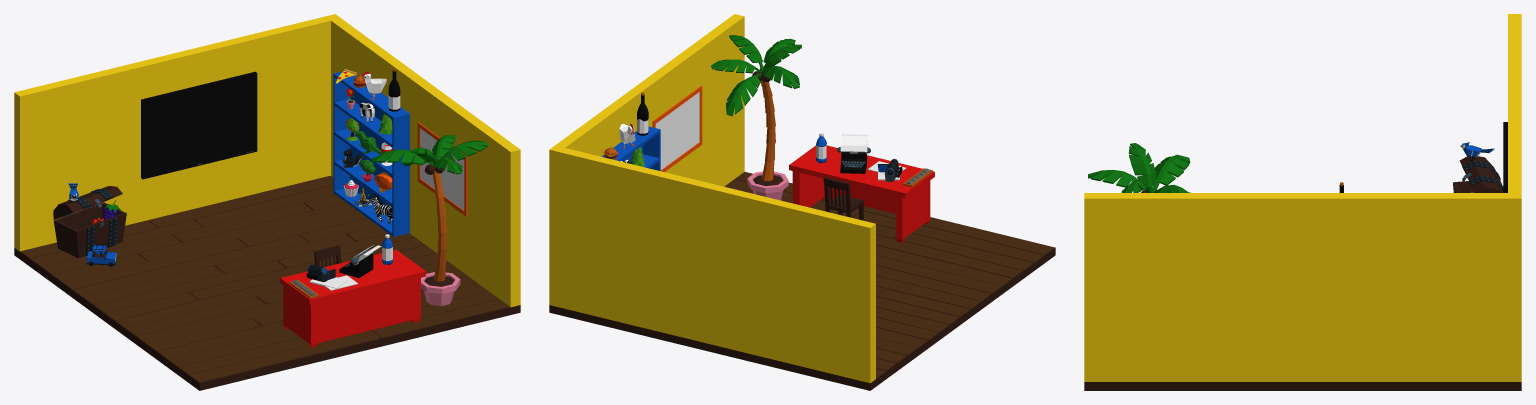
The model's file is Isometric_Room_03.obj.
3 views of the same model, side by side, from view 1: azimuth 30°, elevation 25°; view 2: azimuth 150°, elevation 25°; view 3: azimuth 270°, elevation 25° (orthographic). The views are drawn at different scales.
Visible parts, largest first — view 1: Plane, Cube.024, Cube_Cube.001, Cube.001_Cube.002, Cube.002_Cube.003, palm_tree_01, Cube.004_Cube, Plane.002_Plane.009, Cube.005, flower_01_Cube.000, Cube.003_Cube.006, car_01_Cube.004 (+1 smaller); view 2: Plane, Cube.024, Cube.001_Cube.002, palm_tree_01, Plane.002_Plane.009, Cube.002_Cube.003, Cube.003_Cube.006, Plane.004_Plane.010, flower_01_Cube.000; view 3: Plane, palm_tree_01, Cube.005.
Part boxes in pixels (x1,y1,x2,y2): Plane: (14,14,520,390); Cube.024: (20,176,508,382); Cube_Cube.001: (141,71,257,179); Cube.001_Cube.002: (280,249,425,347); Cube.002_Cube.003: (333,69,409,236); palm_tree_01: (372,135,487,281); Cube.004_Cube: (53,202,126,258); Plane.002_Plane.009: (417,122,467,216); Cube.005: (53,186,122,219); flower_01_Cube.000: (421,272,460,305); Cube.003_Cube.006: (339,245,381,277); car_01_Cube.004: (86,244,116,266); Plane: (549,14,1055,390); Cube.024: (724,172,1054,378); Cube.001_Cube.002: (789,145,934,242); palm_tree_01: (711,35,801,181); Plane.002_Plane.009: (652,85,702,171); Cube.002_Cube.003: (601,126,660,170); Cube.003_Cube.006: (837,134,870,173); Plane.004_Plane.010: (823,177,863,220); flower_01_Cube.000: (747,171,788,200); Plane: (1084,14,1521,390); palm_tree_01: (1088,143,1190,192); Cube.005: (1459,156,1503,192).
Bounding box in the file's own units: 77.45 × 38.72 × 77.45.
